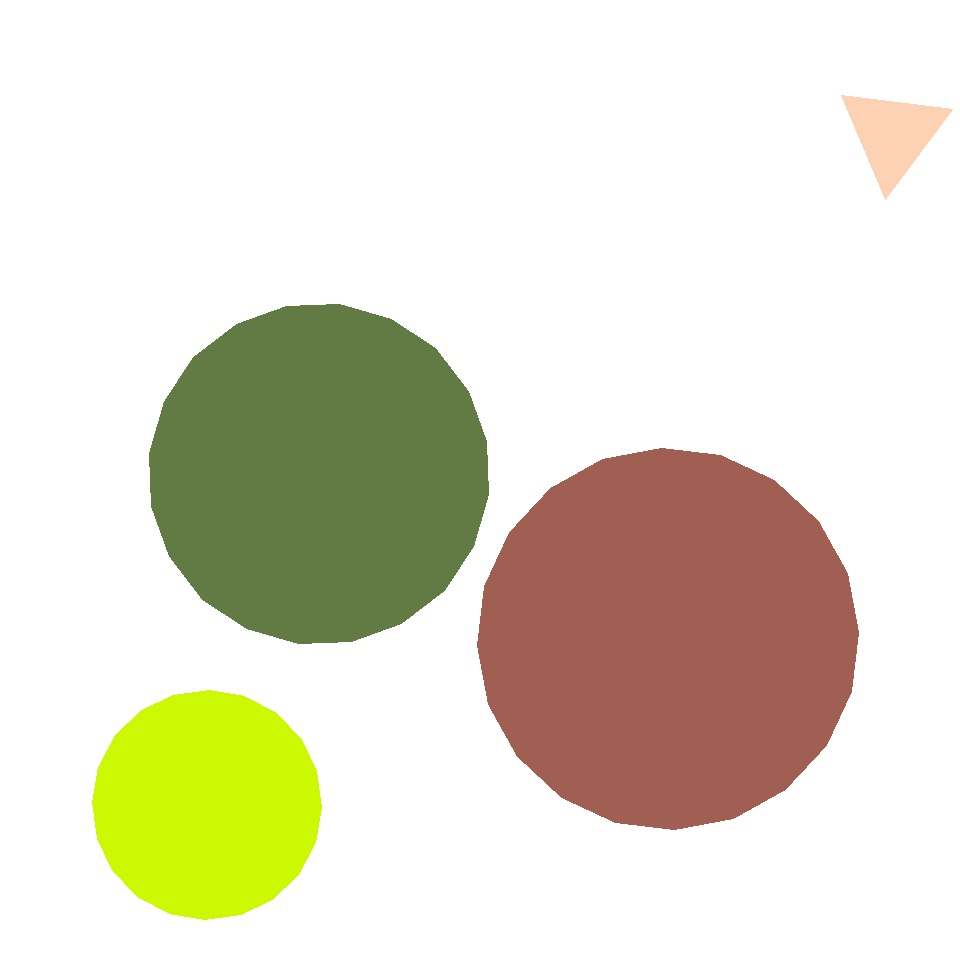circle: (837, 83, 948, 187)
square: (536, 442, 837, 742), (597, 534, 850, 786), (614, 246, 796, 428), (88, 178, 258, 348)
triangle: (478, 449, 858, 830), (149, 304, 488, 644), (92, 690, 322, 920), (640, 296, 866, 522), (732, 110, 928, 304)
